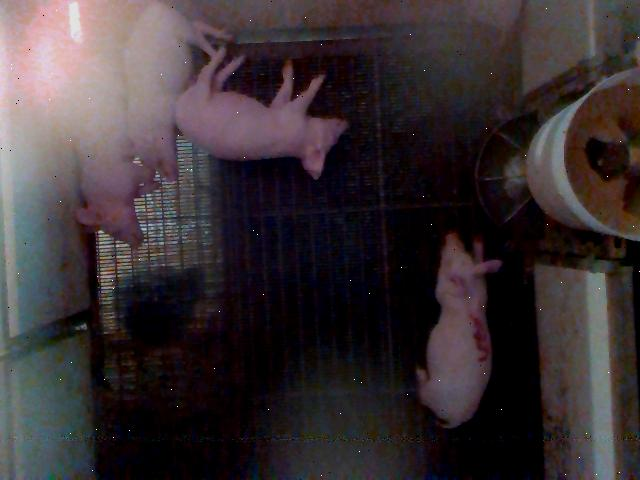pig-3: (418, 233, 502, 428)
